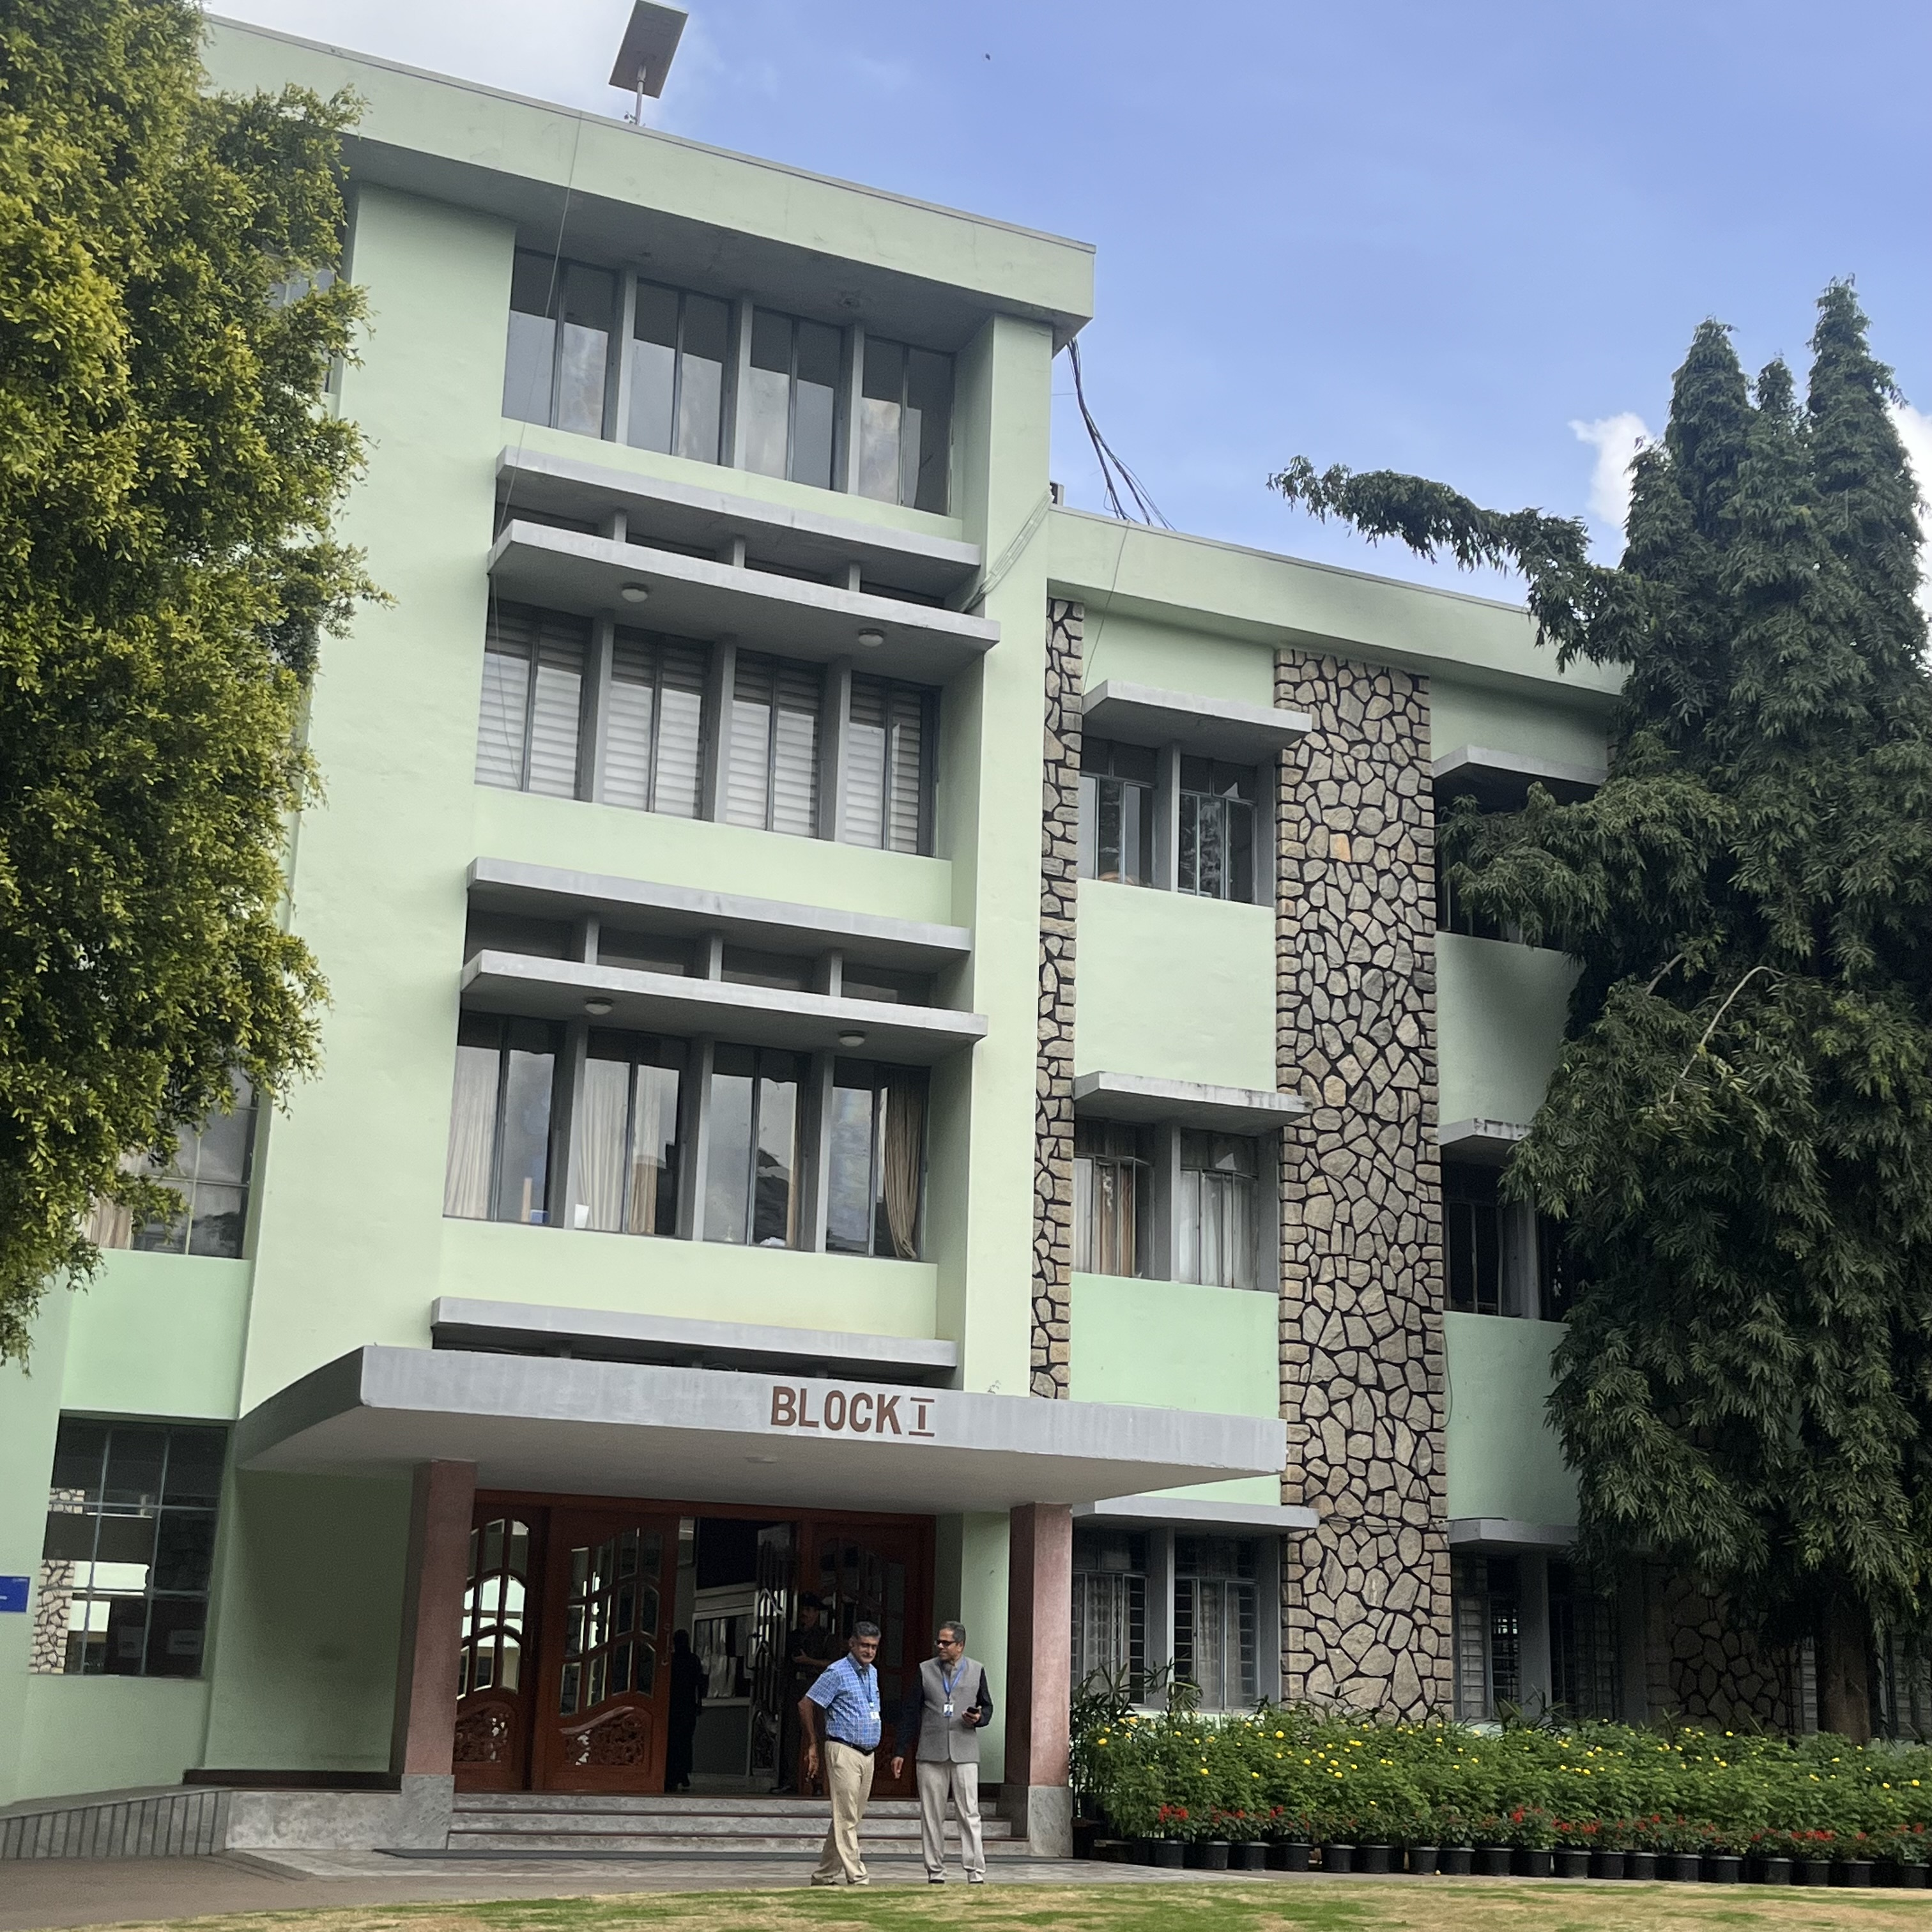Block 1: (336, 9, 1541, 1736)
